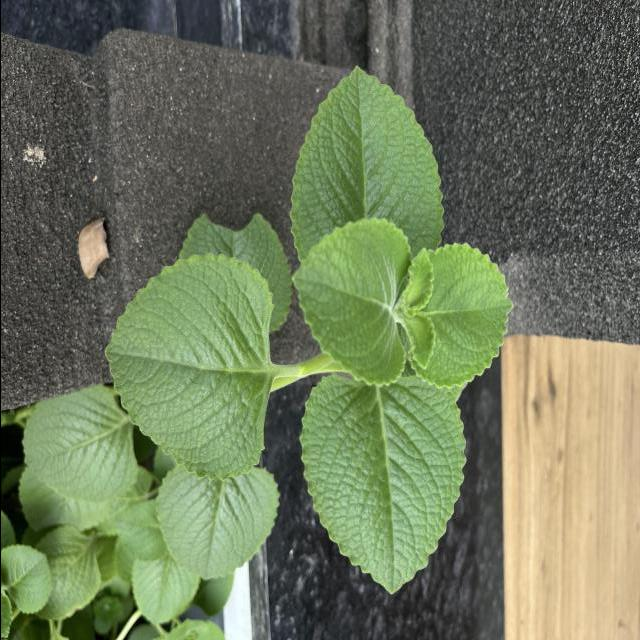Plectranthus barbatus: (102, 252, 274, 480), (296, 378, 467, 596), (287, 64, 445, 250), (288, 215, 412, 388), (406, 244, 513, 390), (154, 464, 280, 580), (19, 384, 138, 504), (0, 544, 52, 614)
